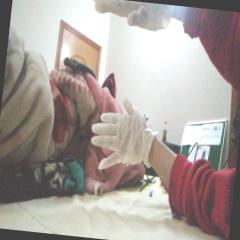gloved: (88, 92, 158, 175), (87, 0, 168, 35)
